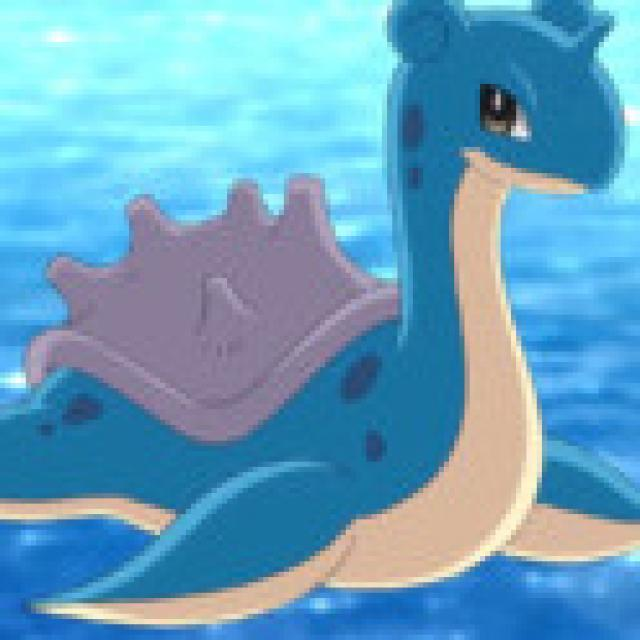Lapras: (46, 0, 623, 579)
